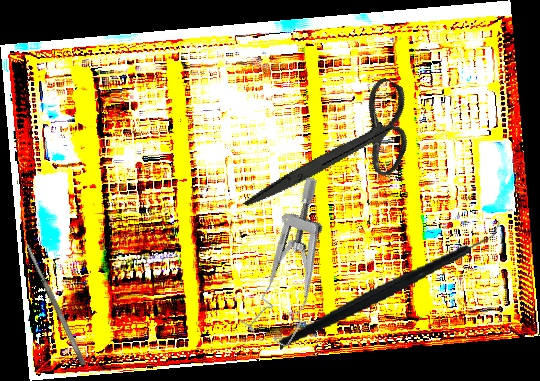Chopper: (267, 214, 512, 352)
Iris Scissors: (243, 46, 431, 259)
Spatula Surgical: (24, 242, 87, 367)
Speculum: (224, 174, 368, 352)
